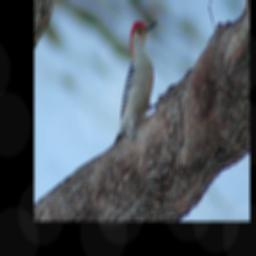Woodpecker: (113, 19, 159, 147)
